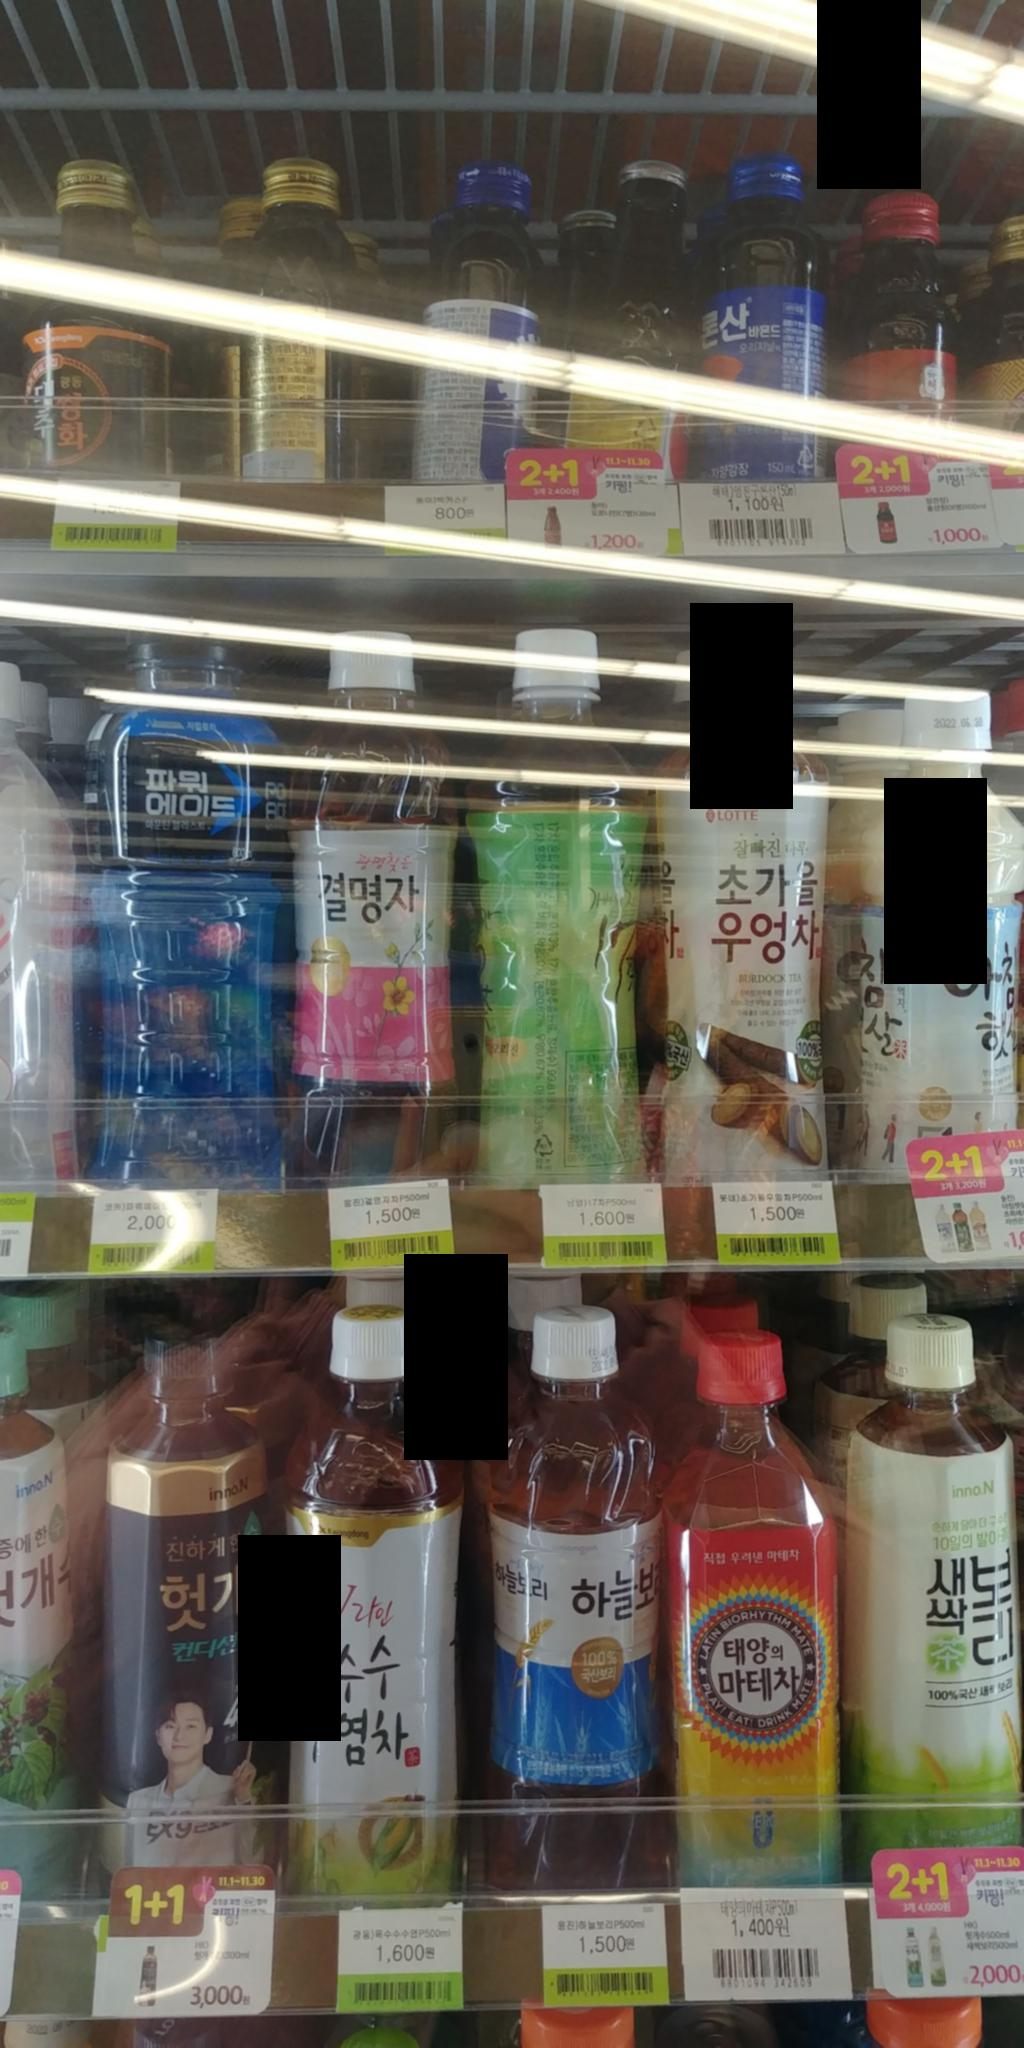haneulbori: (462, 1285, 694, 1915)
oksususuyeomcha: (270, 1292, 477, 1913)
powerade_mountainblast: (64, 620, 307, 1236)
